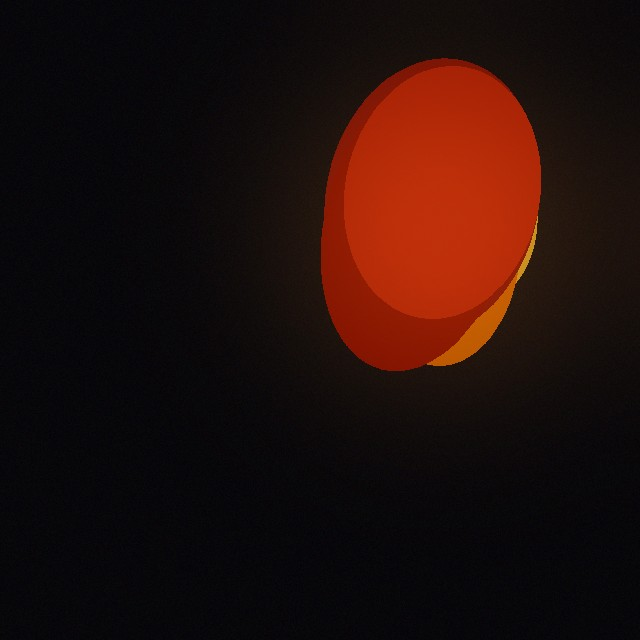fire: (338, 127, 542, 329)
